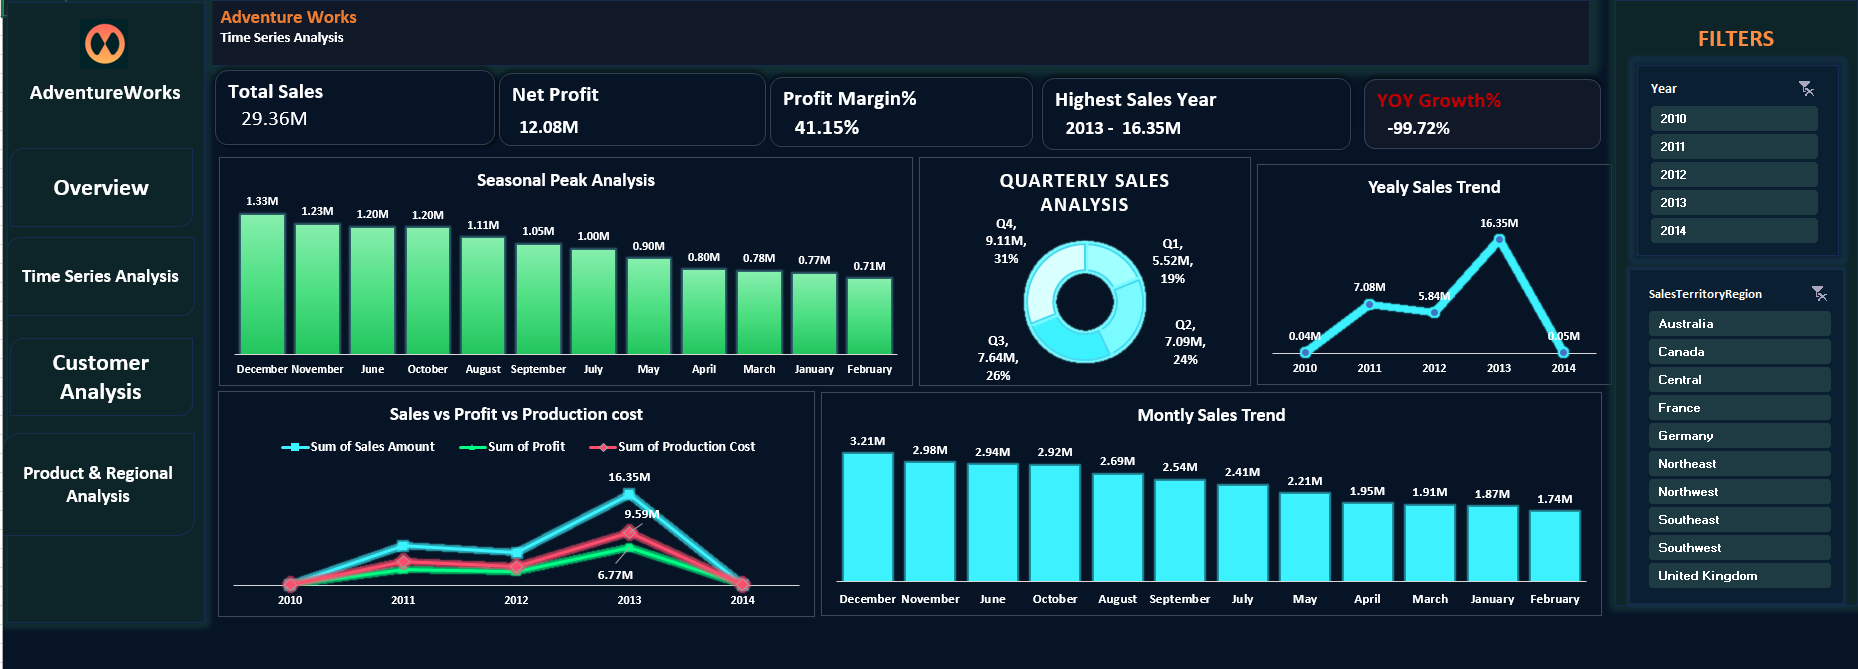

Layout of this report page (visuals, bound fields, positions):
{"tool":"tableau","page":{"name":"Time Series Analysis","canvas":[1000,1000],"units":"permille","ordinal":4},"visuals":[{"type":"dashboard-object","box":[4.7,9.1,92.4,86.2]},{"type":"text","box":[97.1,9.1,759.8,86.2]},{"type":"filter","title":"Yearly_Sales Trend","param":"[federated.0e6db3f146nowf1dx3vmm1ianpzm].[yr:Calculation_5284129741743005696:ok]","box":[856.9,9.1,62.2,86.2]},{"type":"dashboard-object","box":[919.1,9.1,76.2,86.2]},{"type":"filter","title":"Yearly_Sales Trend","param":"[federated.0e6db3f146nowf1dx3vmm1ianpzm].[qr:Calculation_5284129741743005696:ok]","box":[784,18.6,72.4,63.9]},{"type":"filter","title":"Yearly_Sales Trend","param":"[federated.0e6db3f146nowf1dx3vmm1ianpzm].[mn:Calculation_5284129741743005696:ok]","box":[705.5,19.7,76.6,63.9]},{"type":"worksheet","title":"Total Sales","mark":"Automatic","box":[4.7,95.2,247.7,118.8]},{"type":"worksheet","title":"Profit","mark":"Automatic","box":[252.3,95.2,247.6,118.8]},{"type":"worksheet","title":"Profit Margin %","mark":"Automatic","box":[500,95.2,238.1,118.8]},{"type":"worksheet","title":"Avg Monthly Sales","mark":"Automatic","box":[738.1,95.2,257.2,118.8]},{"type":"image","param":"Image/profit11.png","box":[278.2,159.1,50.1,53.4]},{"type":"image","param":"Image/profit margin.jpg","box":[522,159.1,63.4,52.3]},{"type":"image","param":"Image/avg mnth sal.jpg","box":[761,160.3,47.1,43]},{"type":"image","param":"Image/sales.png","box":[27.2,161.4,54.3,52.3]},{"type":"worksheet","title":"Yearly_Sales Trend","mark":"Area","rows":["Calculation_5284129741743640577"],"cols":["Calculation_5284129741743005696"],"box":[4.7,214.1,495.3,270.2]},{"type":"worksheet","title":"Sales vs Cost vs Profit","mark":"Area","rows":["Calculation_5284129741743640577","Calculation_5284129741745061890","Calculation_5284129741745233923"],"cols":["Calculation_5284129741743005696"],"box":[500,214.1,495.3,270.2]},{"type":"worksheet","title":"Seasonality Heatmap","mark":"Square","rows":["Calculation_5284129741743005696"],"cols":["Calculation_2228718870365622274"],"box":[4.7,484.3,990.6,280.7]},{"type":"worksheet","title":"Monthly Sales Trend","mark":"Area","rows":["Calculation_5284129741743640577"],"cols":["Calculation_2228718870364225536"],"box":[4.7,765,495.3,226]},{"type":"worksheet","title":"Quarterly Sales Trend","mark":"Automatic","rows":["Calculation_5284129741743640577"],"cols":["Calculation_2228718870365556737"],"box":[500,765,495.3,226]}]}

Visuals, with their boxes on the dashboard's canvas, which has no fixed pixel size, in thousandths of its width and height (x1, y1, x2, y2). These are canvas units, not pixel positions in the 1858x669 screenshot, which may show the page scaled, cropped or inside an application window:
dashboard-object: select_region(5, 9, 97, 95)
text: select_region(97, 9, 857, 95)
"Yearly_Sales Trend" filter: select_region(857, 9, 919, 95)
dashboard-object: select_region(919, 9, 995, 95)
"Yearly_Sales Trend" filter: select_region(784, 19, 856, 82)
"Yearly_Sales Trend" filter: select_region(706, 20, 782, 84)
"Total Sales" worksheet: select_region(5, 95, 252, 214)
"Profit" worksheet: select_region(252, 95, 500, 214)
"Profit Margin %" worksheet: select_region(500, 95, 738, 214)
"Avg Monthly Sales" worksheet: select_region(738, 95, 995, 214)
image: select_region(278, 159, 328, 212)
image: select_region(522, 159, 585, 211)
image: select_region(761, 160, 808, 203)
image: select_region(27, 161, 82, 214)
"Yearly_Sales Trend" worksheet (Area marks): select_region(5, 214, 500, 484)
"Sales vs Cost vs Profit" worksheet (Area marks): select_region(500, 214, 995, 484)
"Seasonality Heatmap" worksheet (Square marks): select_region(5, 484, 995, 765)
"Monthly Sales Trend" worksheet (Area marks): select_region(5, 765, 500, 991)
"Quarterly Sales Trend" worksheet: select_region(500, 765, 995, 991)
